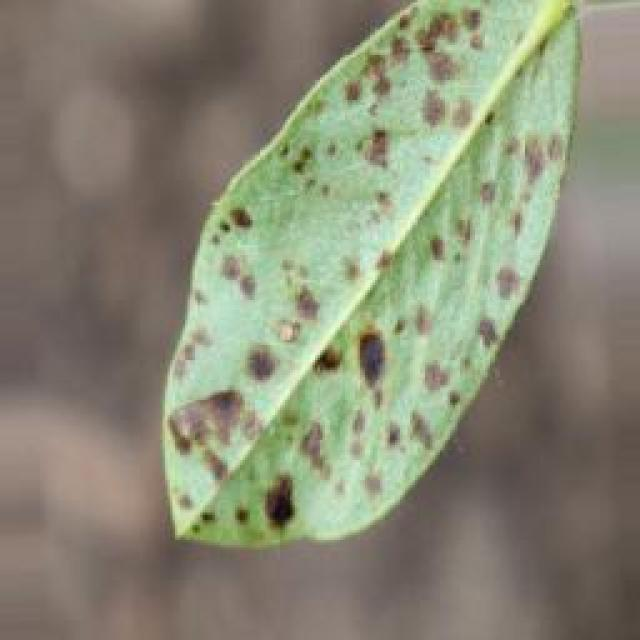Whitefly: (155, 0, 605, 552)
